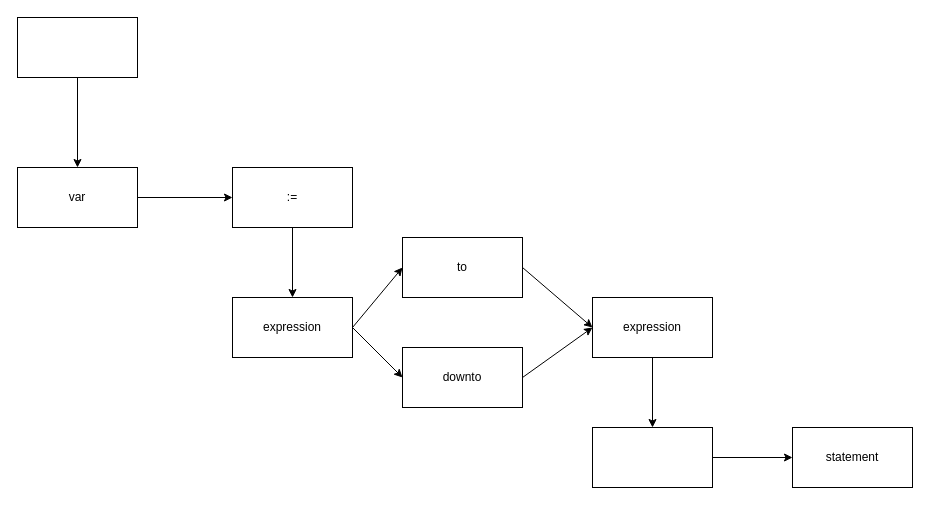
This 930x505 diagram has some shape labels left out. Here are the shapes that lost their labels. From the top down, the box of each, then its label:
(16, 16, 138, 78): for
(592, 426, 712, 488): do
